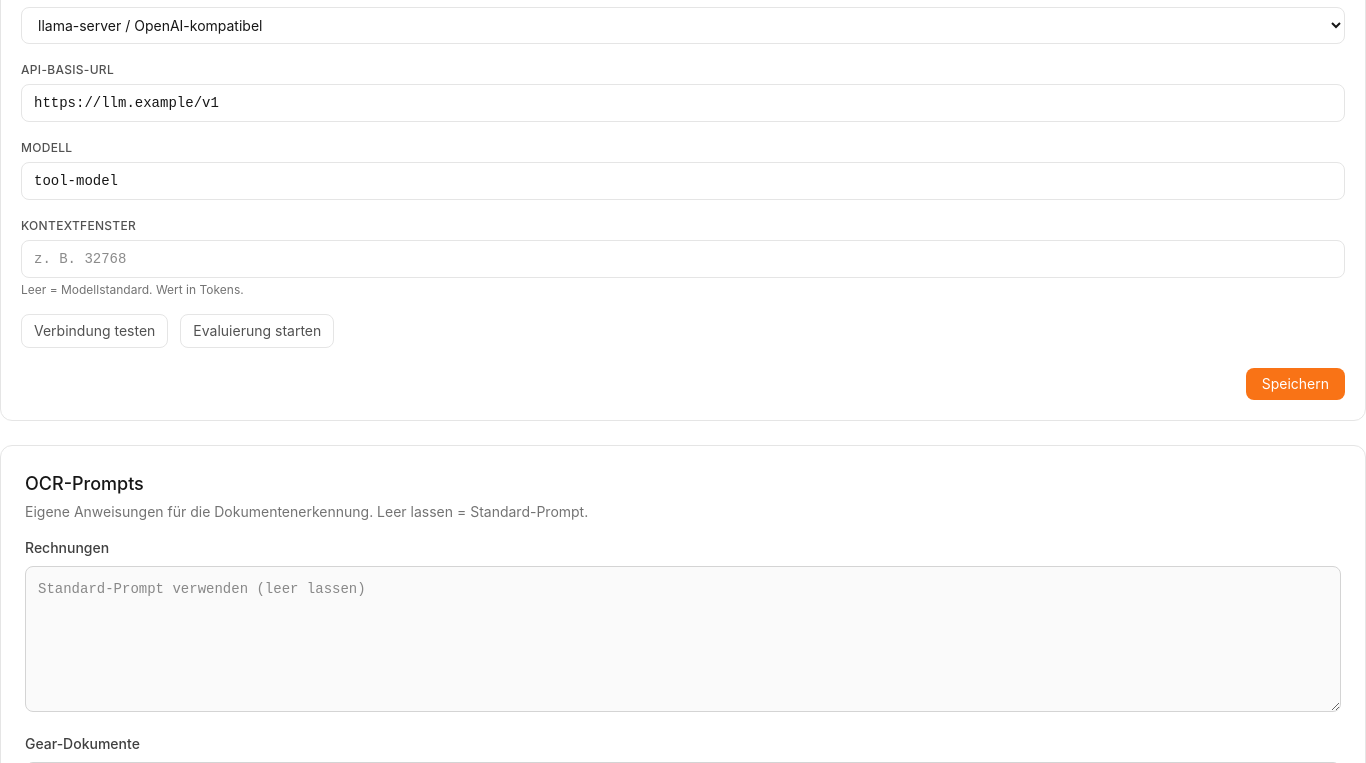
Scenario: LLMSettingsPage › shows save errors returned by the role config API
The width and height of the screenshot is (1366, 763).
(page scrolled)
Click the button "Speichern" at point(1295, 384), box [1246,368,1345,400]
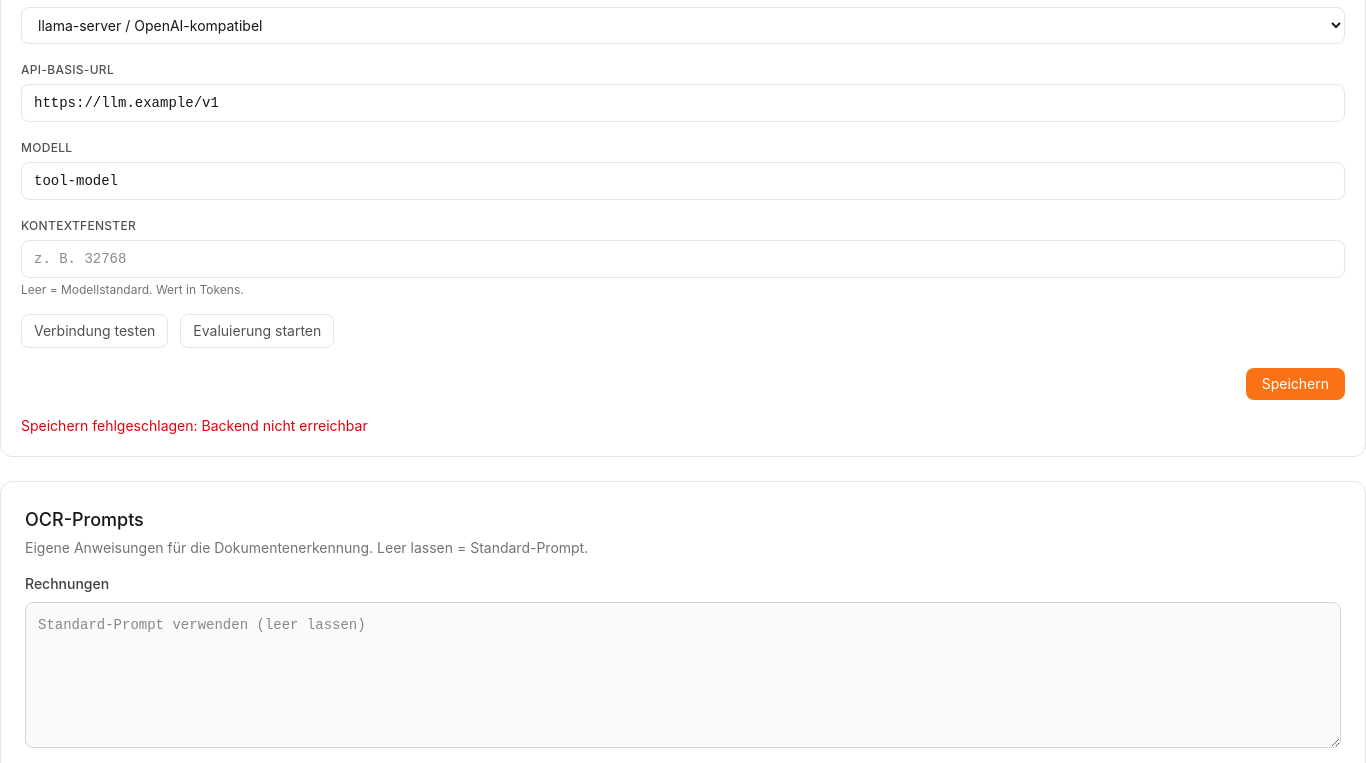
Check: the message shows "Backend nicht erreichbar", box [21,417,368,434]
